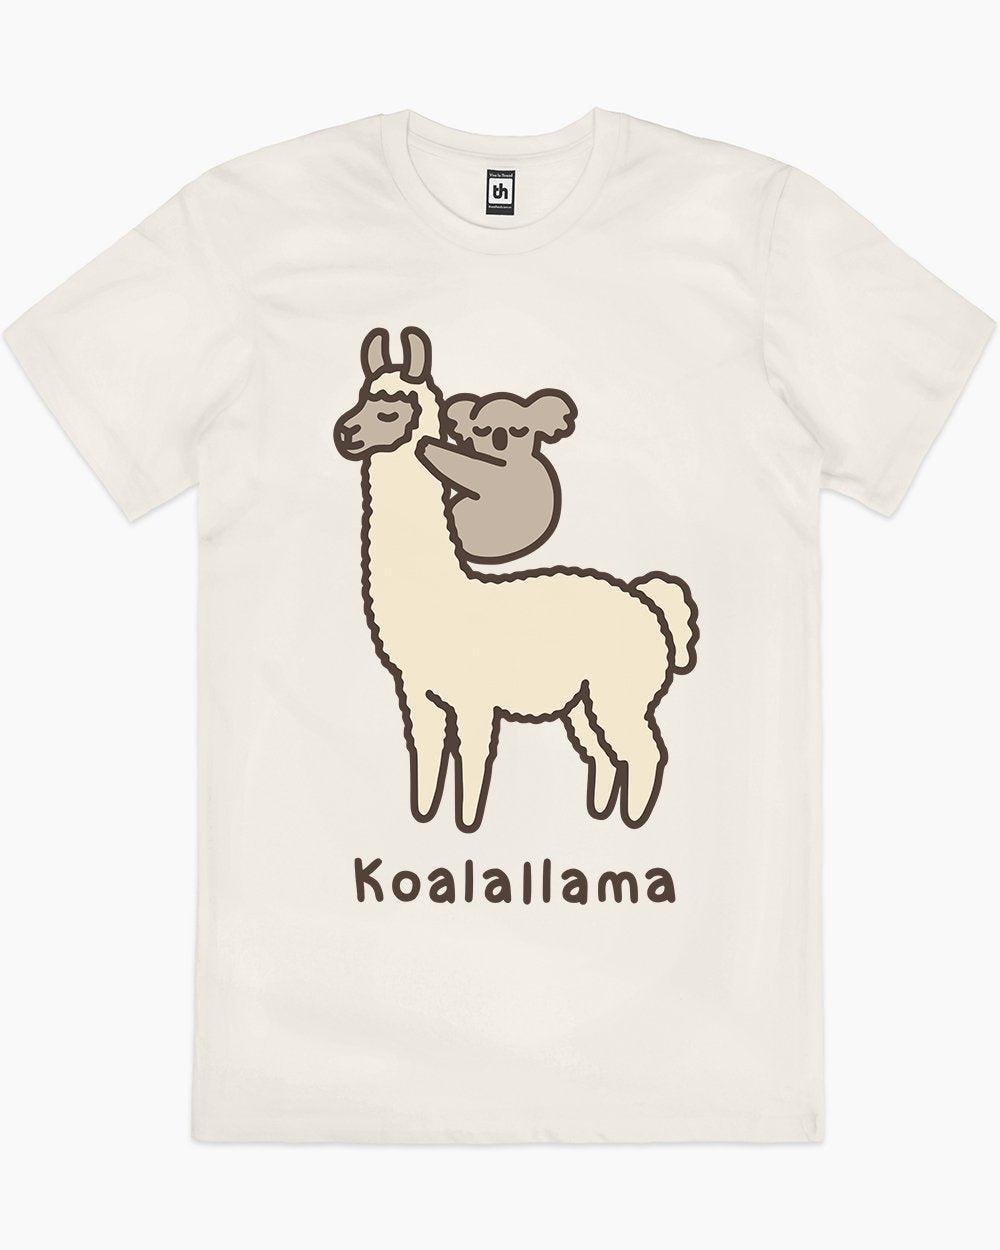design: (327, 321, 705, 908)
